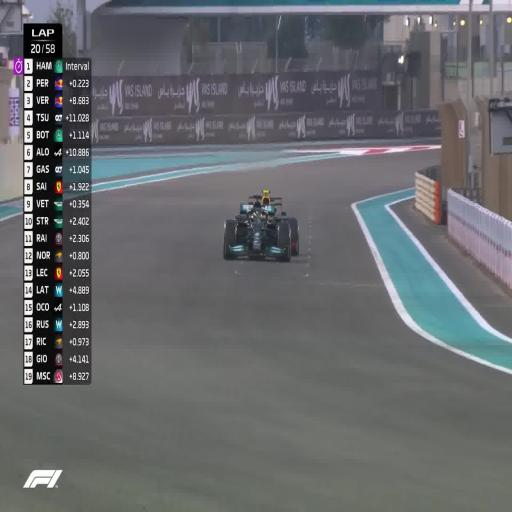f1_car: (223, 190, 298, 261)
